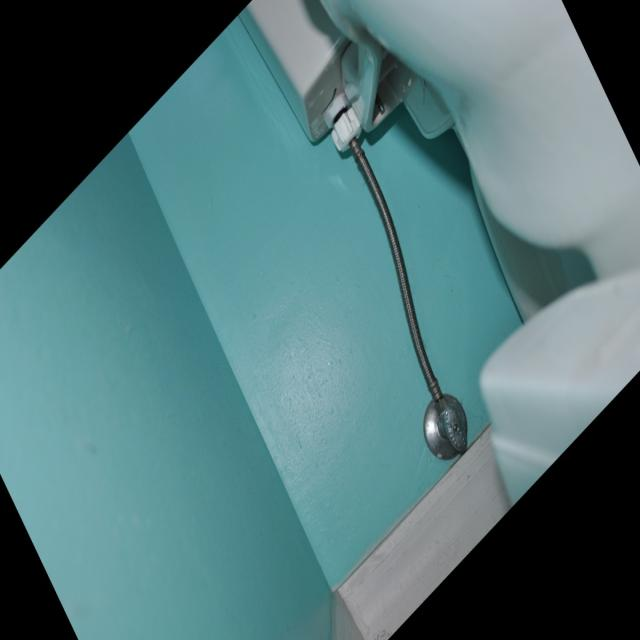good_bolt: (369, 83, 391, 116)
good_coupler: (330, 104, 363, 155)
good_line: (351, 143, 446, 408)
good_valve: (436, 398, 468, 456)
